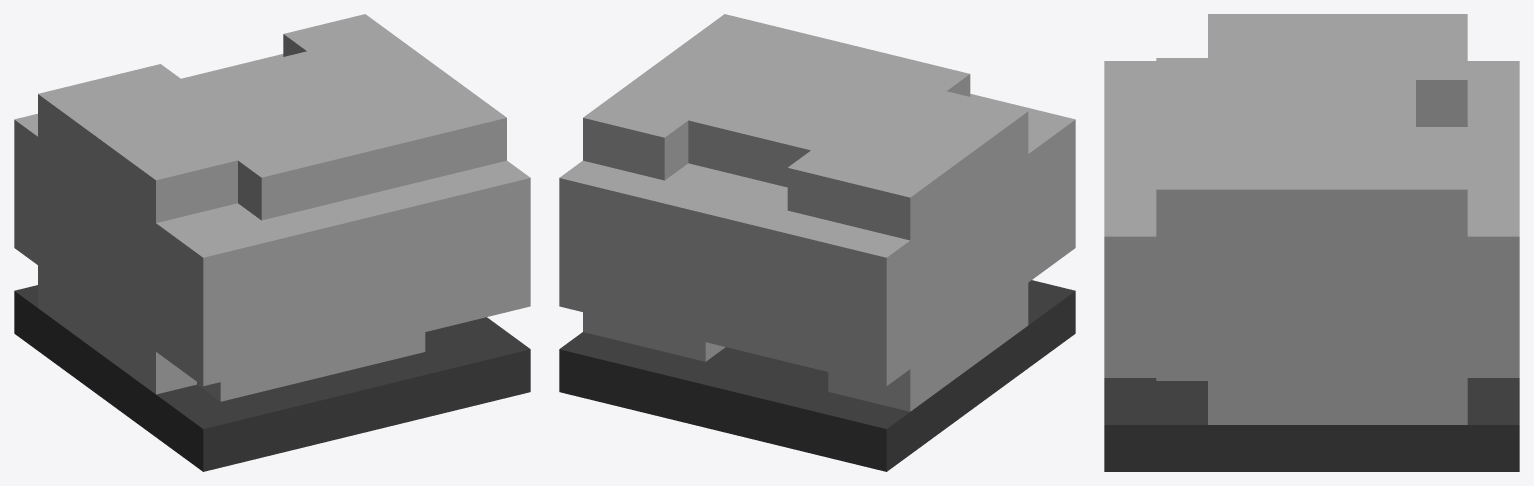
Rendered from Cloud1.obj.
3 views of the same model, side by side, from view 1: azimuth 30°, elevation 25°; view 2: azimuth 150°, elevation 25°; view 3: azimuth 270°, elevation 25° (orthographic). The views are drawn at different scales.
Size of the model in its own units: 0.8 by 0.6 by 0.8.
1 material, 1 textured.
